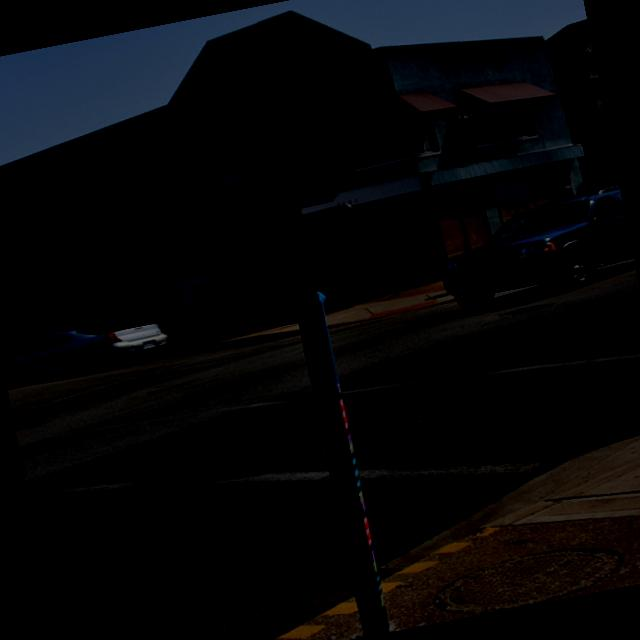Vehicle: (429, 183, 638, 316), (0, 307, 174, 388)
